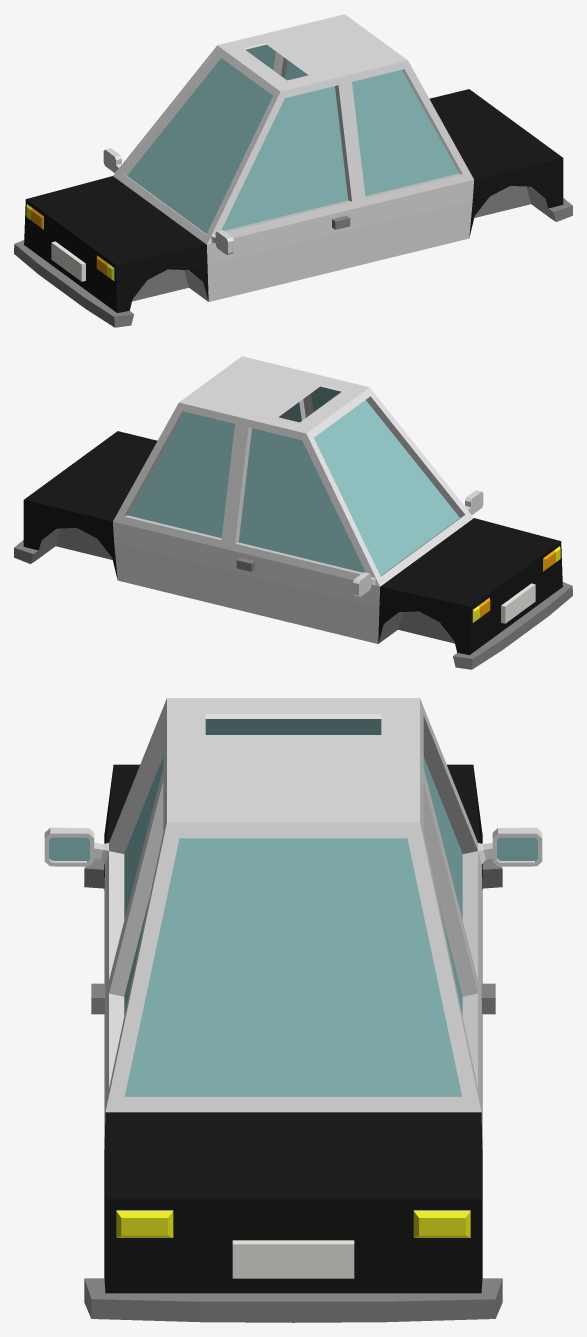
The model's file is carPolice.fbx.
The picture shows the model from 3 angles, top to bottom: view 1: azimuth 30°, elevation 25°; view 2: azimuth 150°, elevation 25°; view 3: azimuth 270°, elevation 25°; orthographic projection. The views are drawn at different scales.
Visible parts, largest first — view 1: carPolice; view 2: carPolice; view 3: carPolice.
Boxes of the visible parts, bbox=[...] form: carPolice: bbox=[14, 14, 572, 327]; carPolice: bbox=[14, 356, 572, 669]; carPolice: bbox=[44, 698, 542, 1322].
Size of the model in its own units: 319 by 252 by 686.
